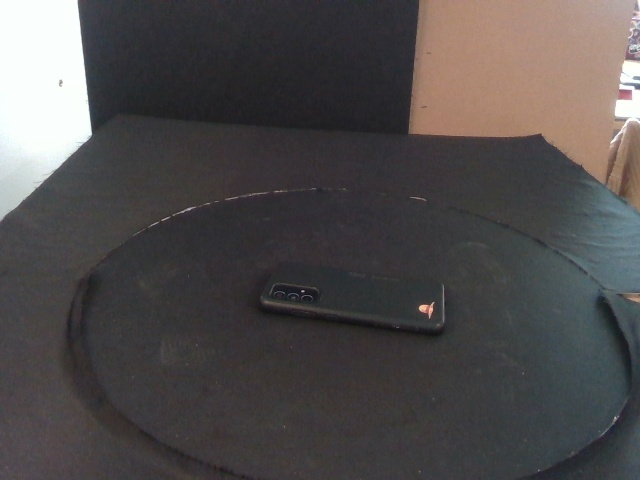phone: (259, 260, 445, 335)
